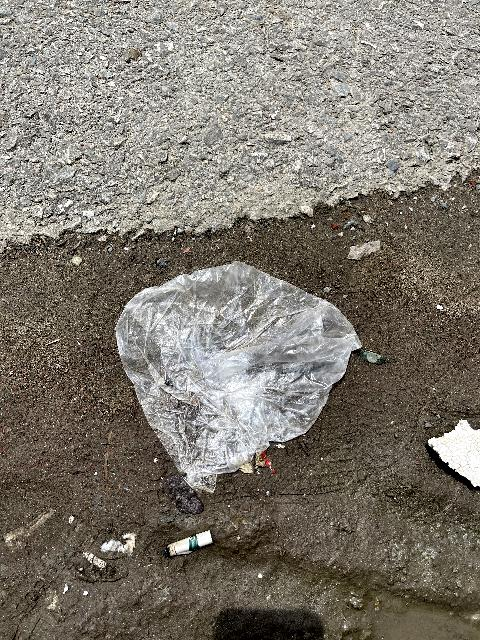polythene: (101, 256, 384, 474)
